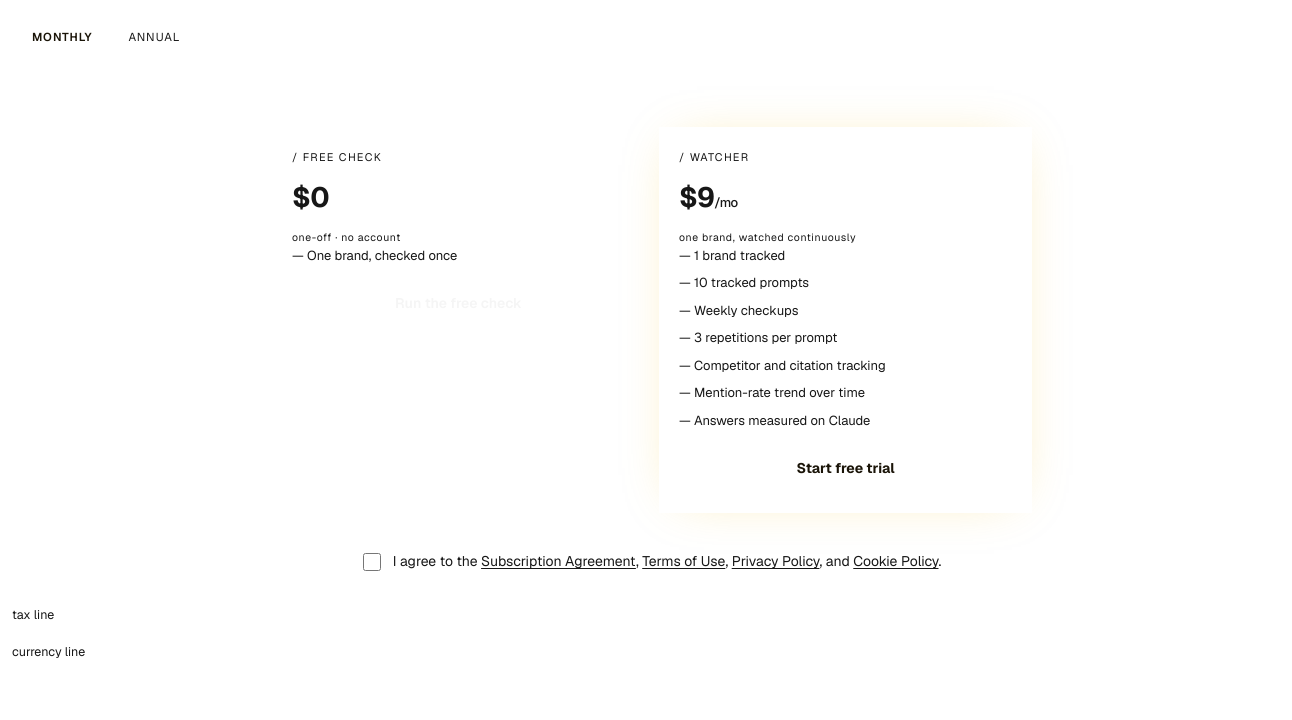
Scenario: the numbers are the ones Stripe charges › on the annual toggle strikes the real monthly price beside $7.50
Click the button "Annual" at (154, 37), box [112,20,196,53]
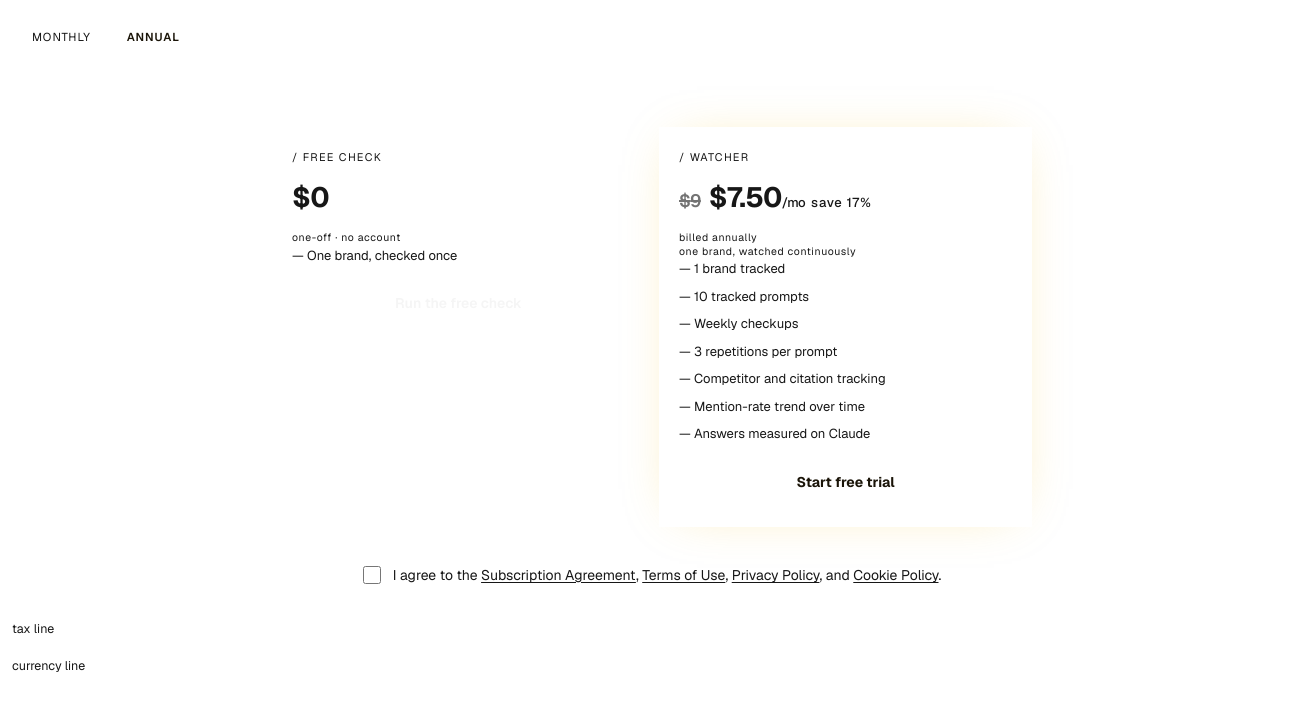
Expected: the text "$9" is shown, [679,189,701,212]
Now the text "save 17%" is shown, box [811,194,872,211]
Now the text "billed annually" is shown, box [679,230,757,244]
